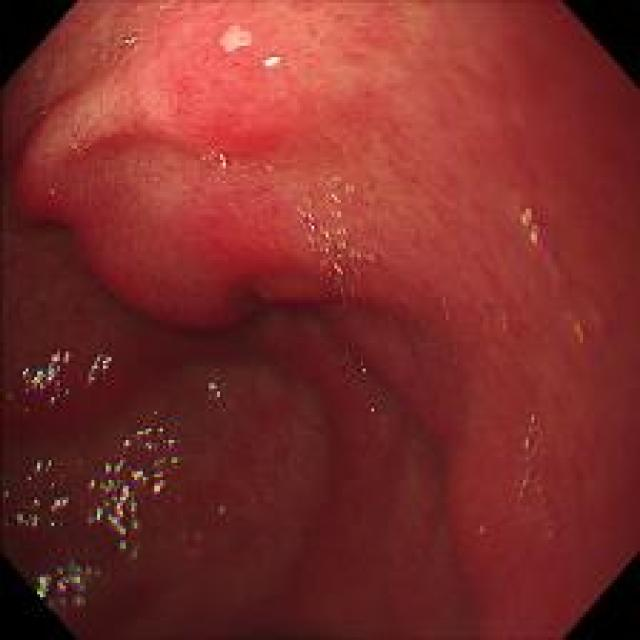bubbles: (291, 184, 378, 294), (206, 144, 246, 181), (362, 401, 395, 436), (205, 495, 238, 526), (114, 26, 145, 54), (32, 102, 59, 129), (351, 355, 376, 382)
color misalignment: (88, 426, 180, 508), (518, 414, 558, 555), (16, 351, 116, 399), (32, 560, 106, 611), (86, 508, 146, 561), (515, 204, 562, 264), (2, 488, 68, 530), (308, 232, 348, 281), (22, 460, 82, 485), (568, 309, 591, 364), (591, 312, 610, 358), (201, 379, 228, 411), (368, 402, 380, 421), (360, 362, 370, 381), (216, 506, 225, 521)
specularity: (260, 56, 284, 72)
